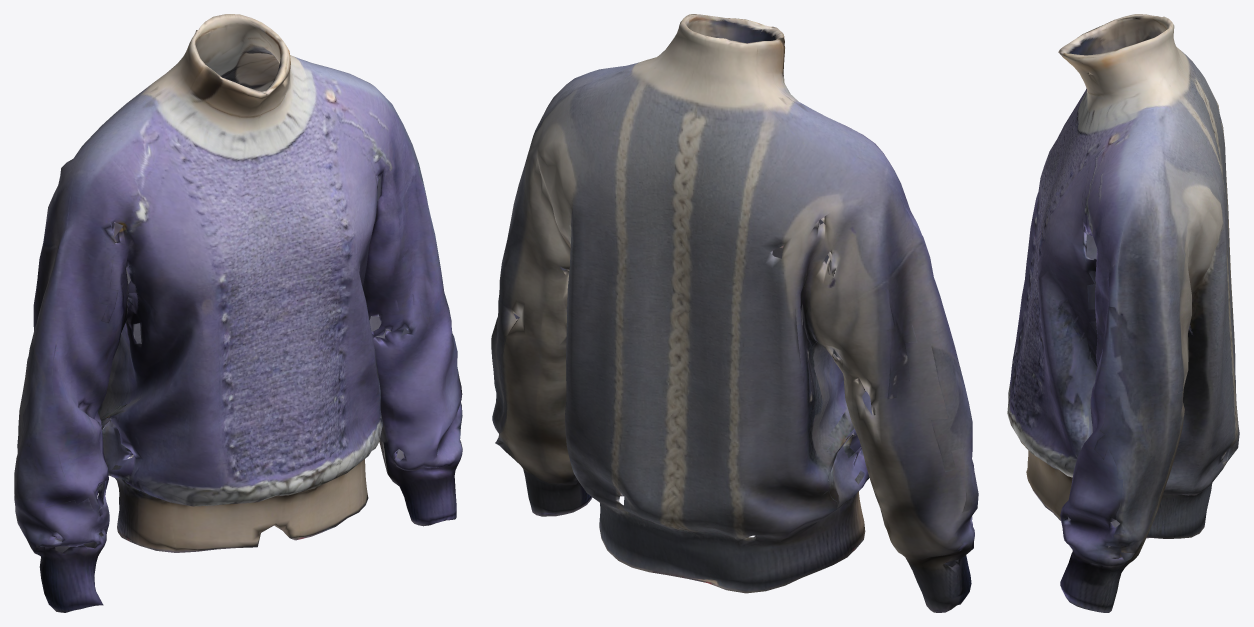
The model's file is product03.glb.
3 renders of one model, left to right at view 1: azimuth 30°, elevation 25°; view 2: azimuth 150°, elevation 25°; view 3: azimuth 270°, elevation 25°, orthographic. The views are drawn at different scales.
Bounding box in the file's own units: 1.79 × 1.99 × 0.8387.
Materials: 1 (1 with a texture image).
